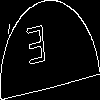E: (25, 25, 48, 74)
